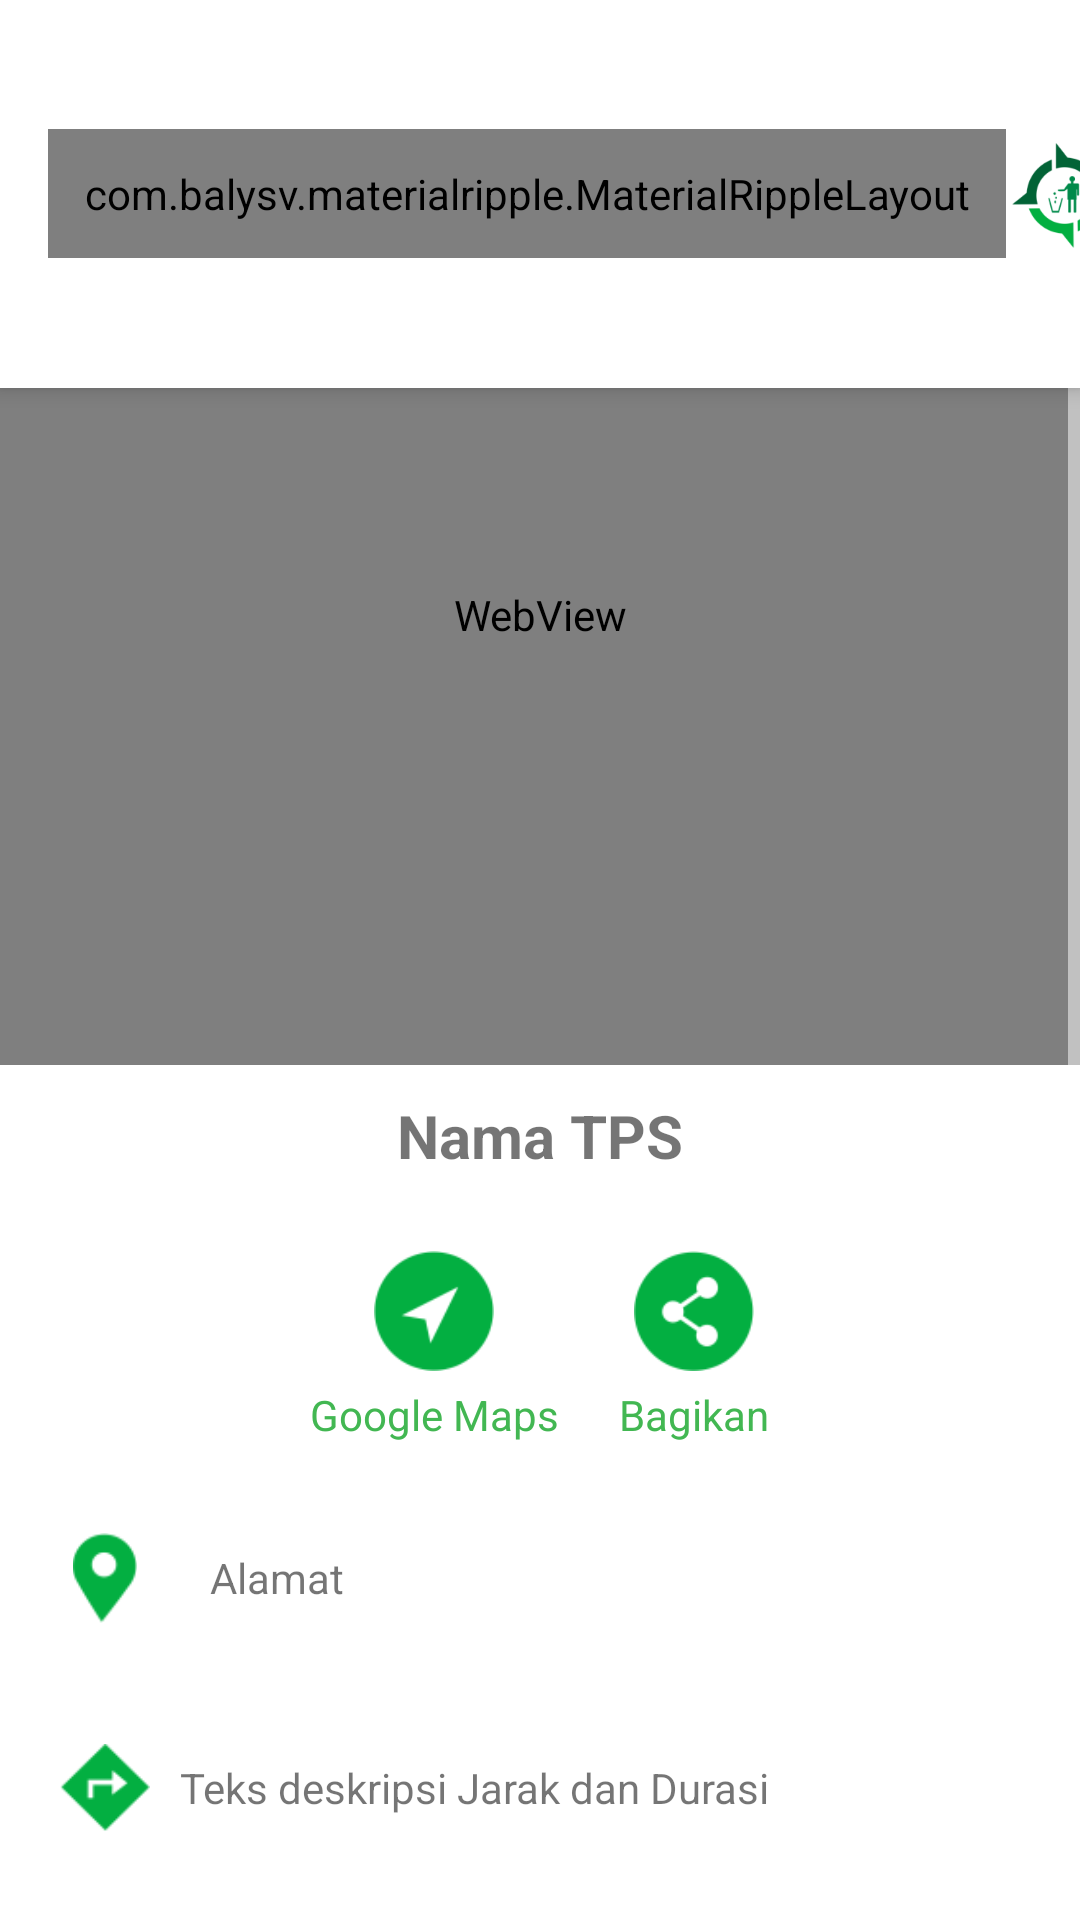

Icon bounding boxes for this 1080x1920 phone screenshot, format bbox=[x1, y1, x2, y2]:
iconmapshijau: bbox=[73, 1533, 137, 1622]
